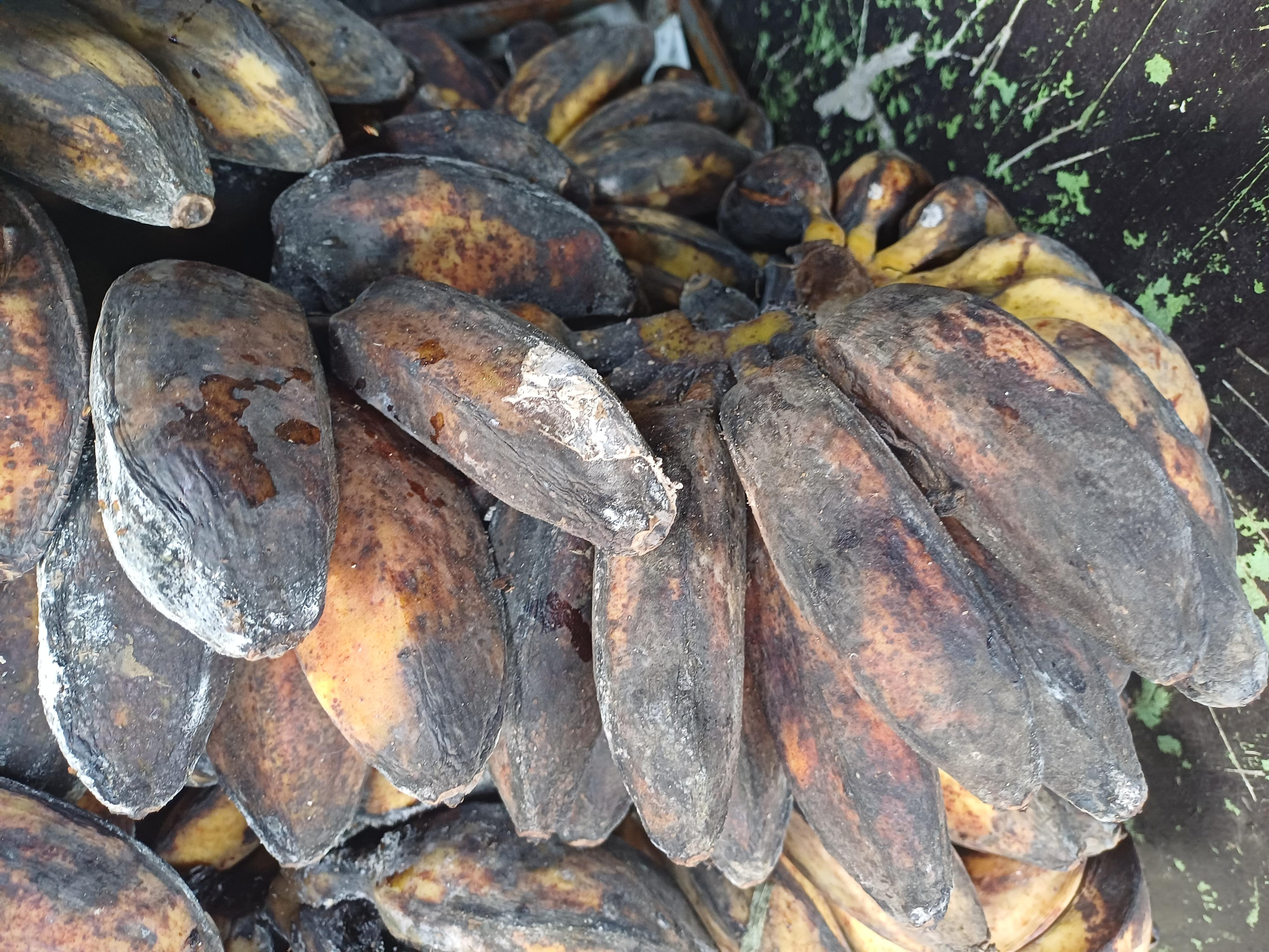overripe: (0, 111, 675, 865), (484, 282, 1265, 930), (719, 143, 1218, 454), (0, 0, 413, 228), (388, 21, 771, 220)
